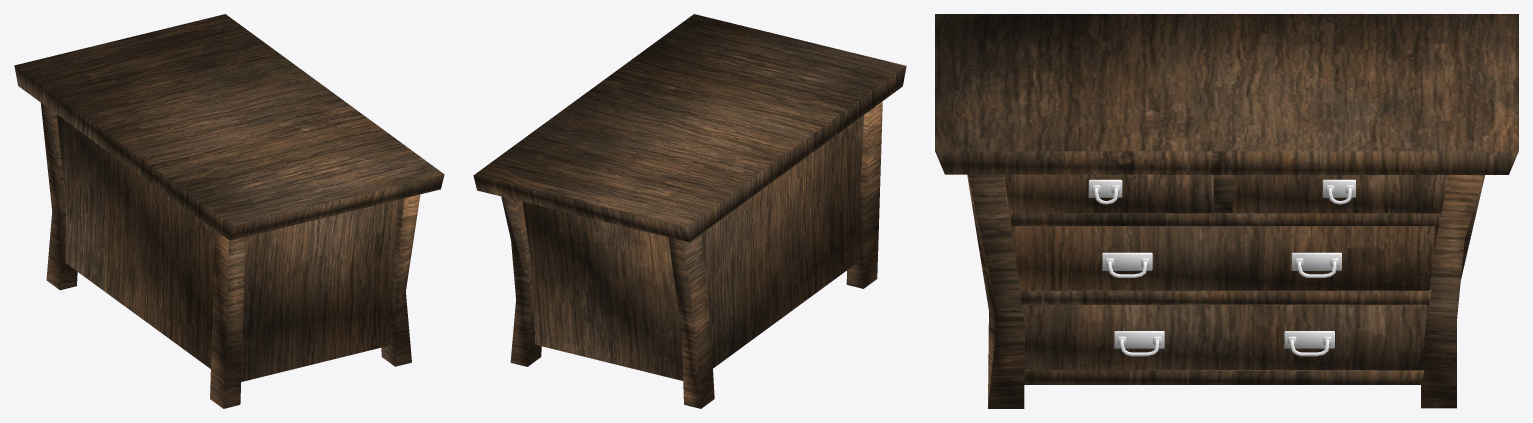
The model's file is Dresser.glb.
3 renders of one model, left to right at view 1: azimuth 30°, elevation 25°; view 2: azimuth 150°, elevation 25°; view 3: azimuth 270°, elevation 25°, orthographic. The views are drawn at different scales.
Parts seen in each view (by area): view 1: Dresser; view 2: Dresser; view 3: Dresser.
Boxes of the visible parts, bbox=[...] form: Dresser: bbox=[14, 14, 444, 408]; Dresser: bbox=[473, 14, 906, 408]; Dresser: bbox=[935, 14, 1518, 408].
Bounding box in the file's own units: 1.46 × 1.32 × 2.63.
2 materials, 1 textured.
